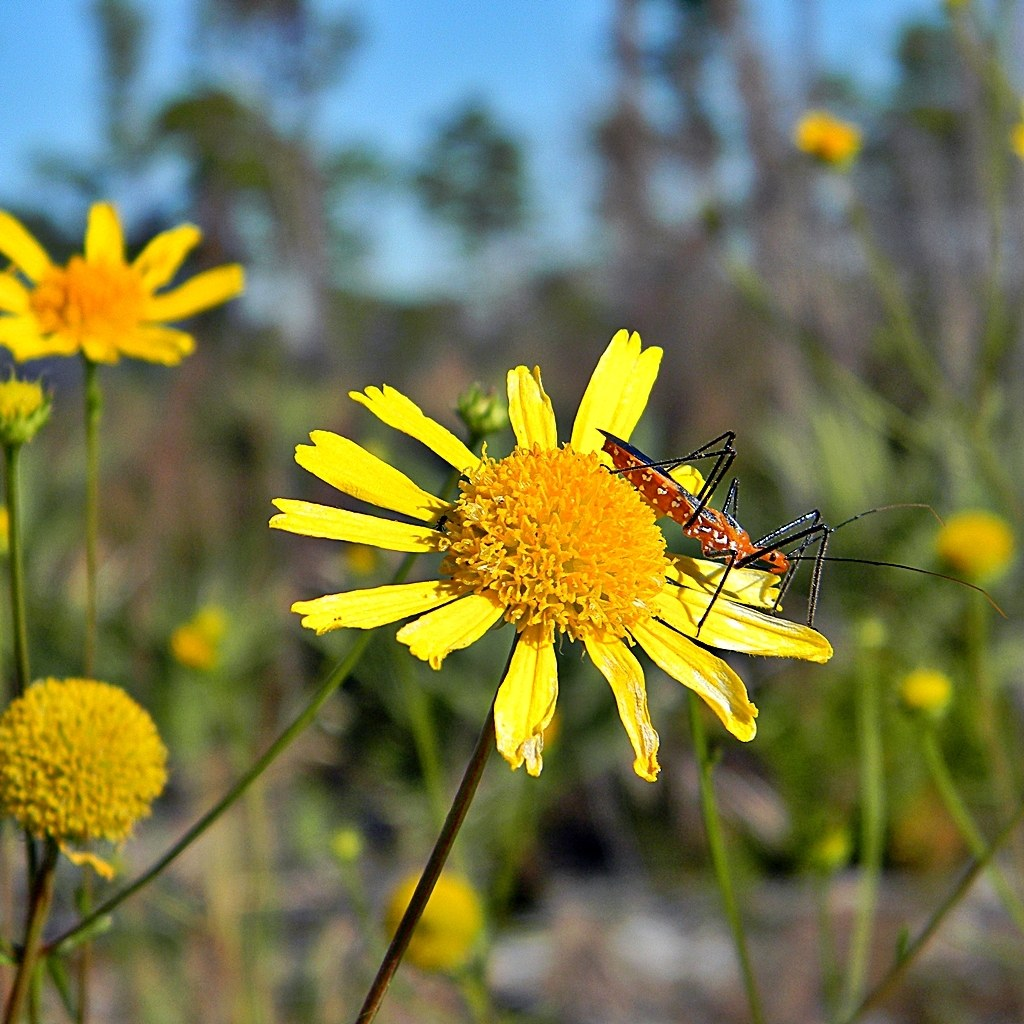insect: (270, 326, 837, 785), (591, 431, 1003, 639), (5, 184, 254, 387), (0, 671, 172, 881), (389, 874, 488, 969), (937, 498, 1015, 567), (793, 109, 866, 161), (0, 377, 50, 427), (905, 671, 953, 707)
